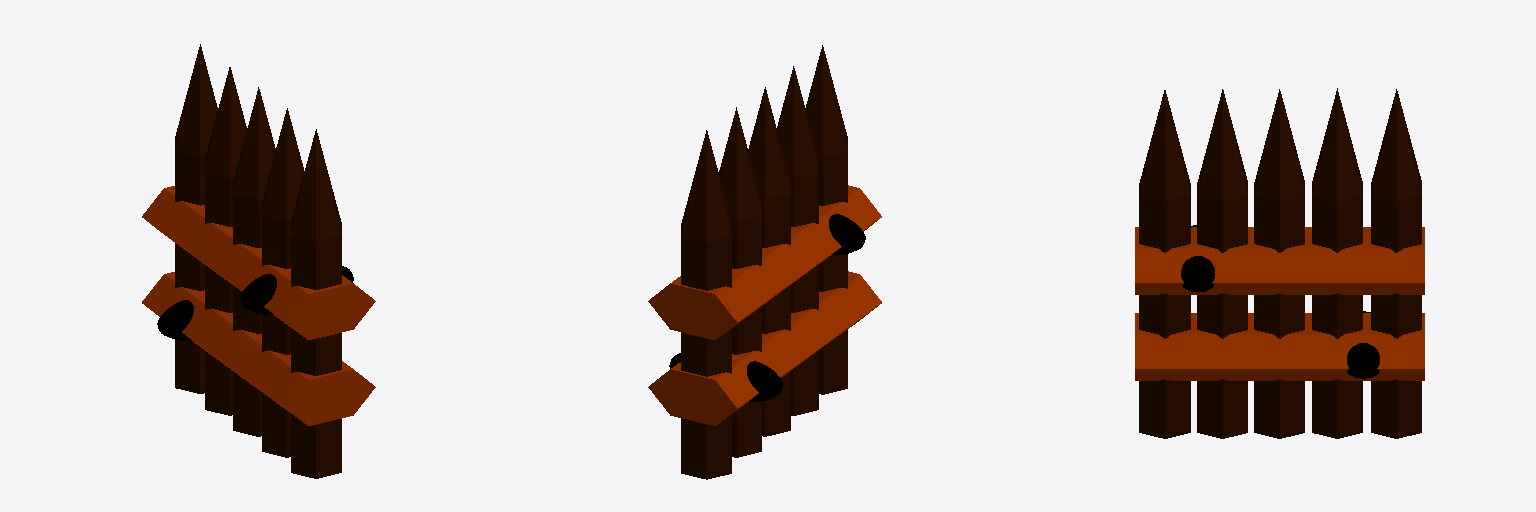
File: Wall_Wood.obj
The picture shows the model from 3 angles: view 1: azimuth 30°, elevation 25°; view 2: azimuth 150°, elevation 25°; view 3: azimuth 270°, elevation 25°; orthographic projection.
Parts seen in each view (by area): view 1: pCylinder4, pCylinder6, pCylinder7, pCylinder5, pCylinder2, pCylinder3, pCylinder1, pSphere1, pSphere2; view 2: pCylinder5, pCylinder6, pCylinder7, pCylinder3, pCylinder4, pCylinder2, pCylinder1, pSphere2, pSphere1; view 3: pCylinder6, pCylinder7, pCylinder4, pCylinder1, pCylinder2, pCylinder5, pCylinder3, pSphere1, pSphere2.
Part boxes in pixels (left/top/right/bottom): pCylinder4: left=291, top=129, right=341, bottom=478; pCylinder6: left=142, top=272, right=375, bottom=425; pCylinder7: left=142, top=186, right=375, bottom=339; pCylinder5: left=175, top=44, right=217, bottom=393; pCylinder2: left=262, top=108, right=304, bottom=457; pCylinder3: left=205, top=67, right=246, bottom=415; pCylinder1: left=233, top=87, right=275, bottom=436; pSphere1: left=240, top=266, right=353, bottom=314; pSphere2: left=157, top=300, right=193, bottom=340; pCylinder5: left=681, top=130, right=731, bottom=479; pCylinder6: left=648, top=271, right=881, bottom=425; pCylinder7: left=648, top=185, right=881, bottom=339; pCylinder3: left=719, top=107, right=761, bottom=457; pCylinder4: left=805, top=45, right=847, bottom=394; pCylinder2: left=777, top=66, right=818, bottom=415; pCylinder1: left=748, top=87, right=790, bottom=436; pSphere2: left=669, top=353, right=782, bottom=401; pSphere1: left=829, top=214, right=865, bottom=254; pCylinder6: left=1135, top=313, right=1424, bottom=380; pCylinder7: left=1135, top=227, right=1424, bottom=294; pCylinder4: left=1139, top=90, right=1190, bottom=438; pCylinder1: left=1254, top=89, right=1304, bottom=438; pCylinder2: left=1197, top=89, right=1247, bottom=438; pCylinder5: left=1371, top=89, right=1421, bottom=438; pCylinder3: left=1312, top=88, right=1362, bottom=438; pSphere1: left=1181, top=225, right=1214, bottom=292; pSphere2: left=1347, top=311, right=1379, bottom=378.
Bounding box in the file's own units: 4.33 × 12.67 × 9.83.